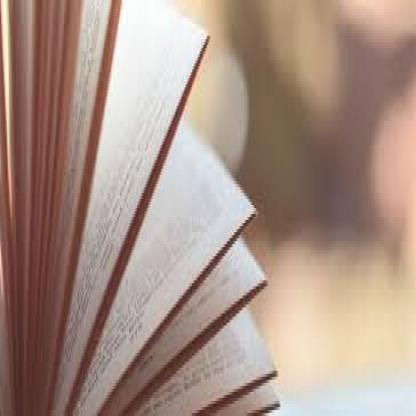Electronics: (1, 12, 416, 416)
